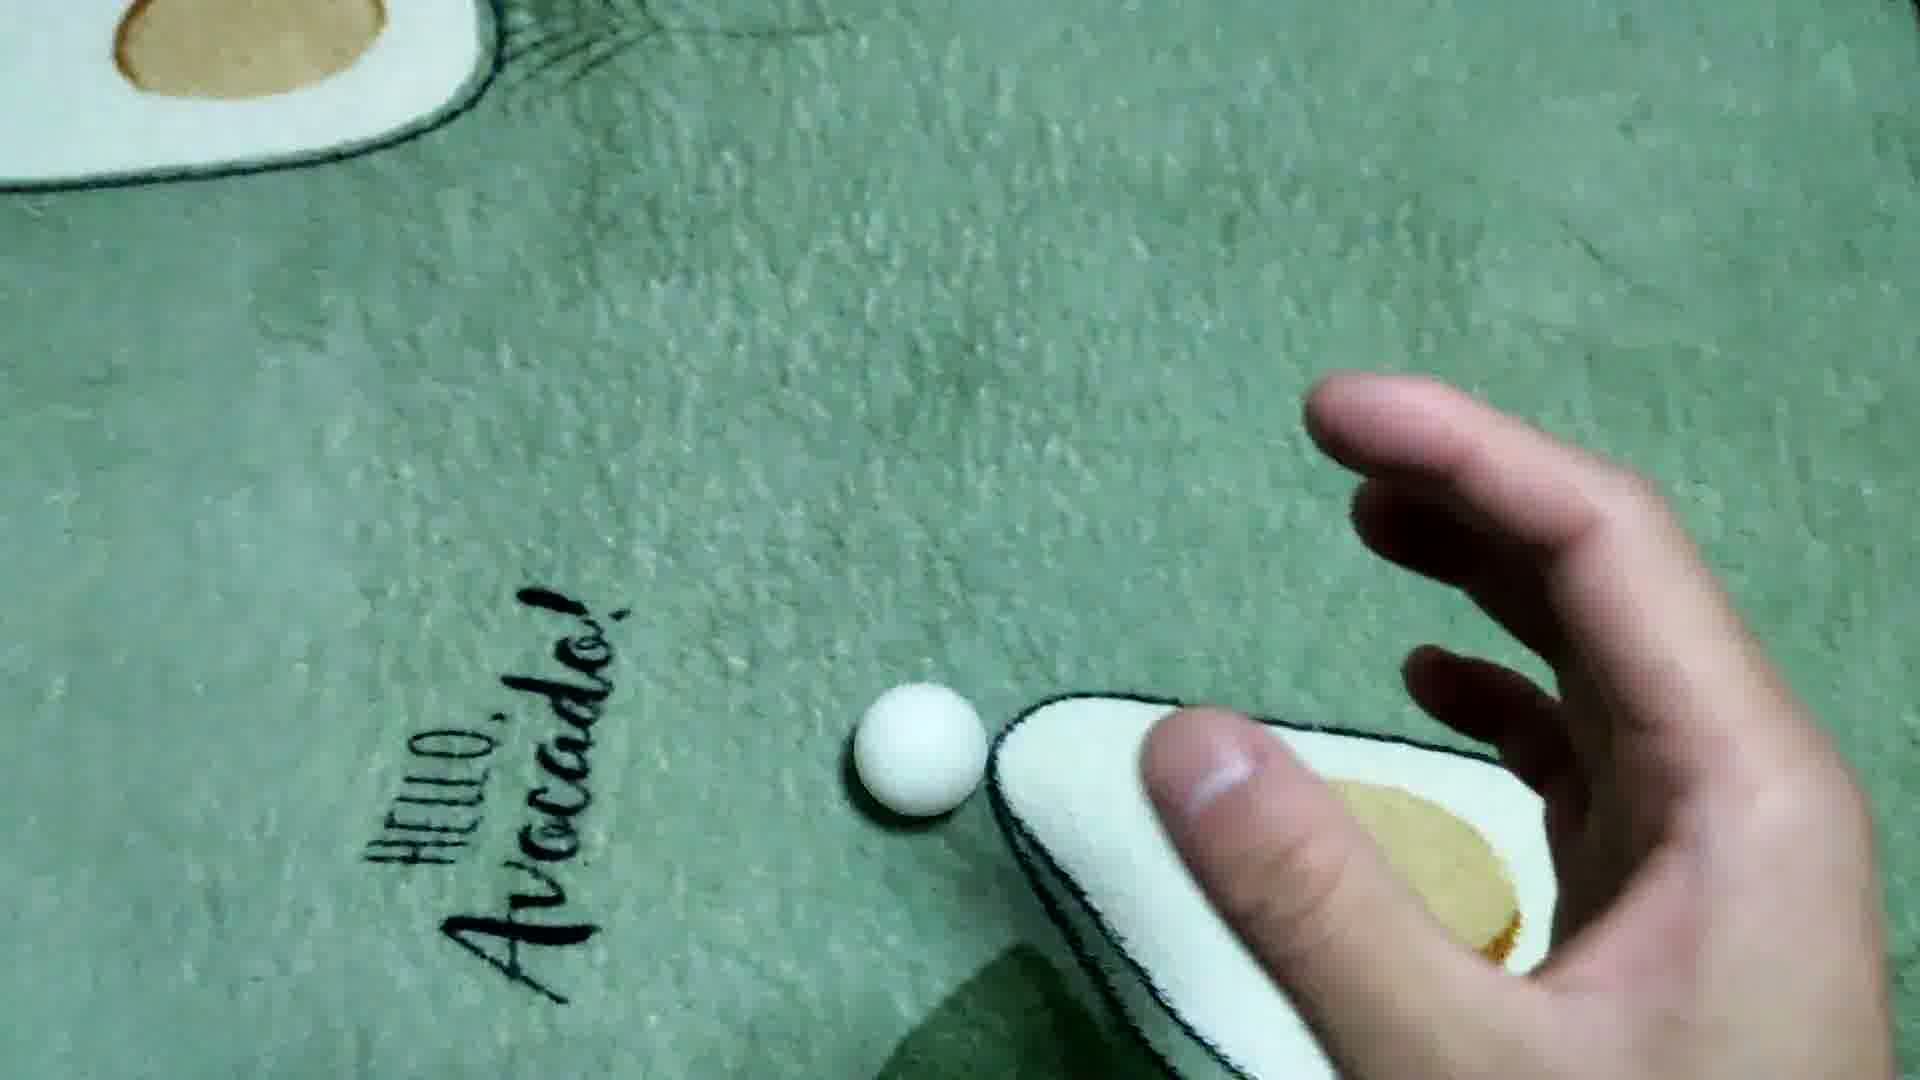Ball: (849, 676, 993, 819)
